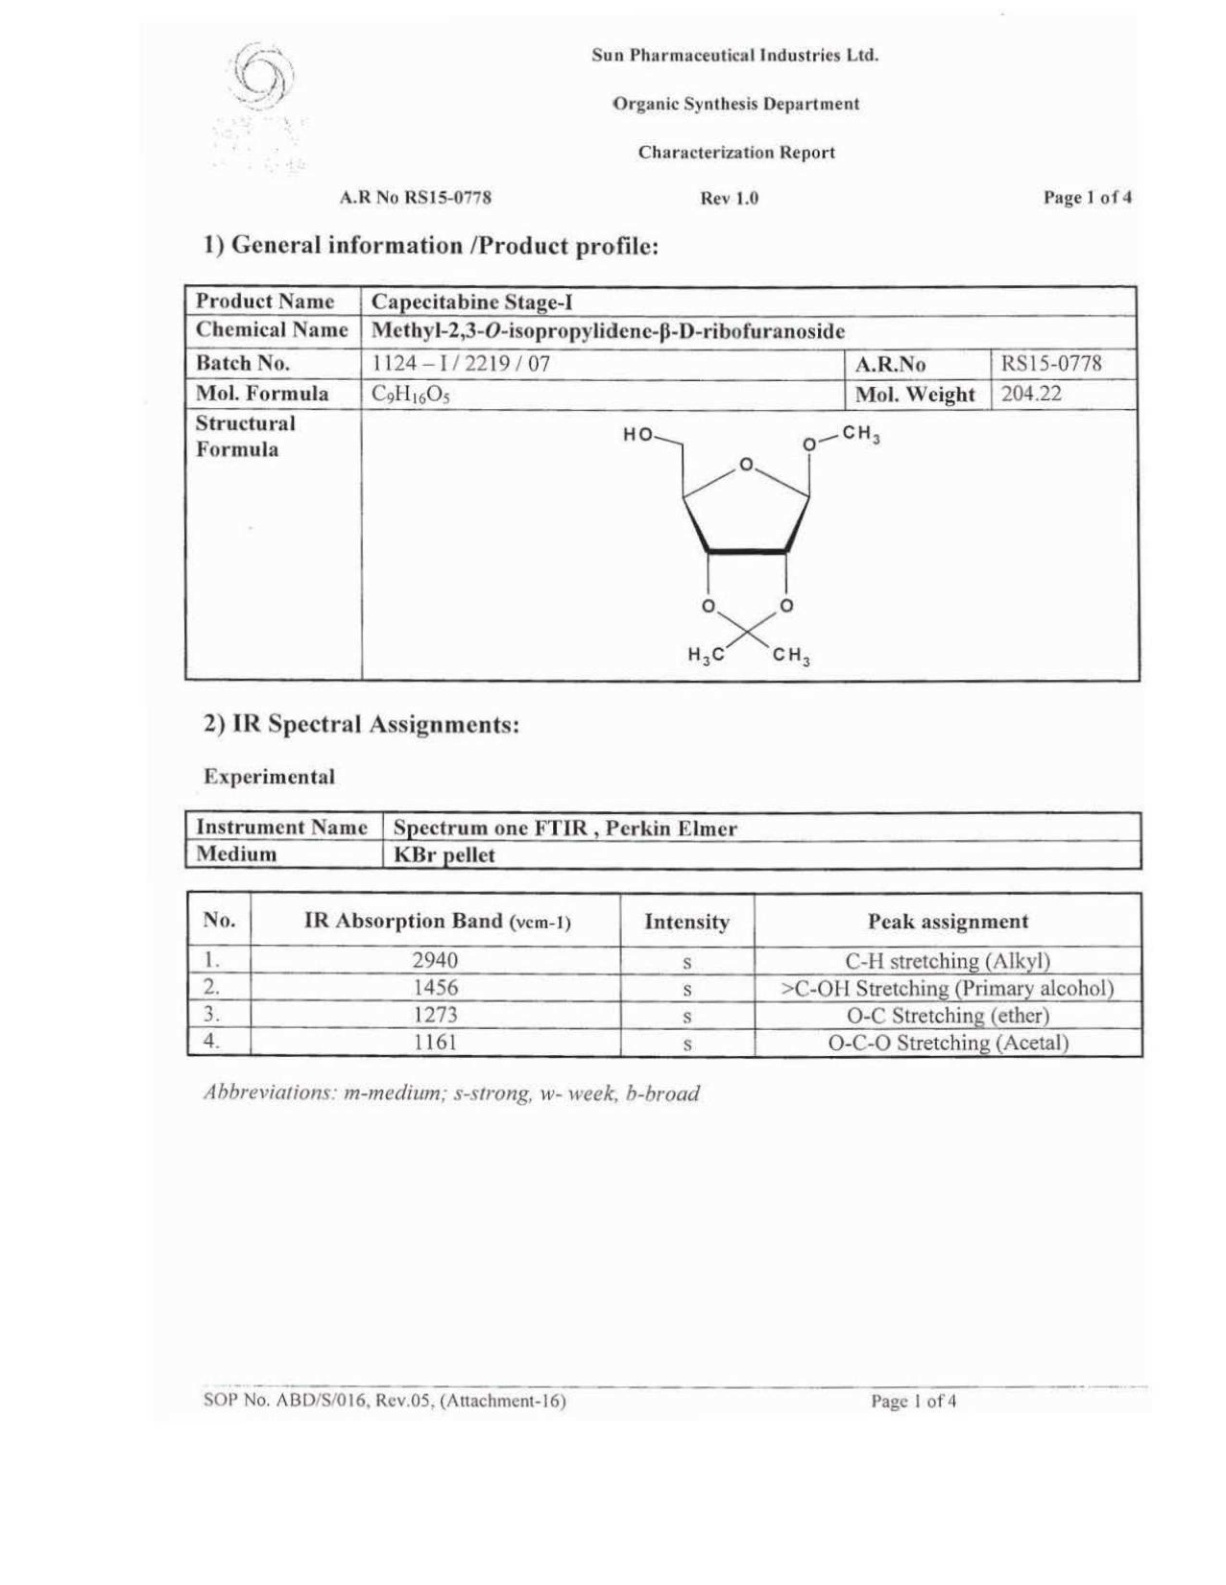full_lined: (184, 888, 1144, 1059), (183, 807, 1144, 870)
merged_cells: (183, 283, 1142, 684)
